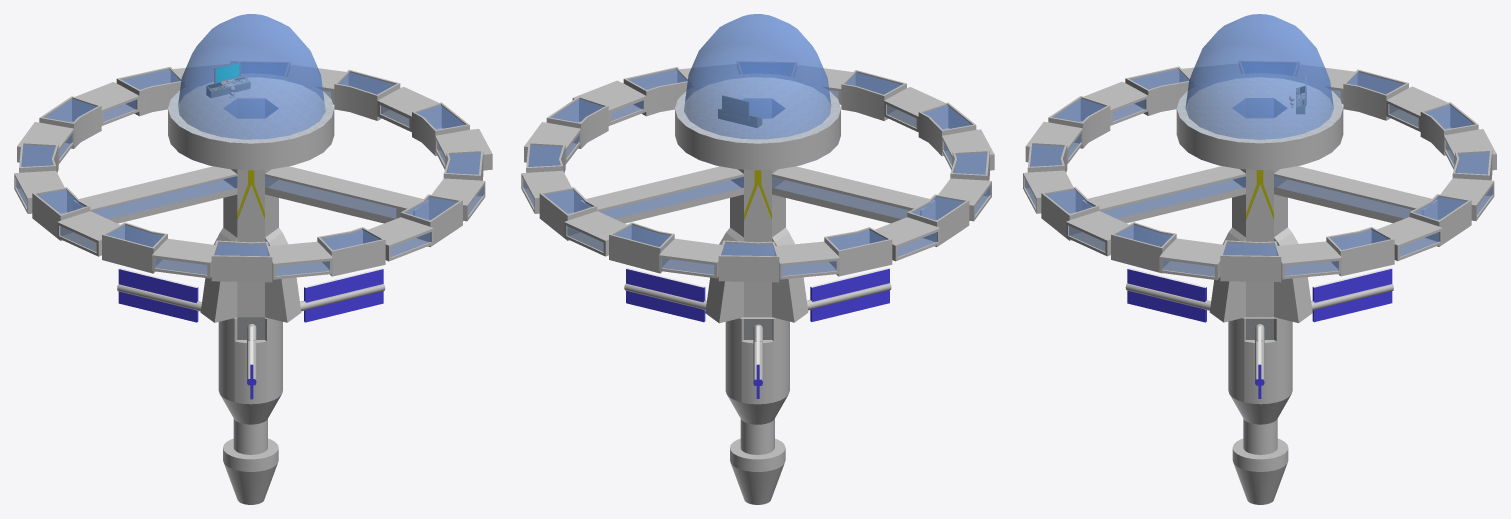
Rendered from Berillium_Satellite.fbx.
The picture shows the model from 3 angles, left to right: view 1: azimuth 30°, elevation 25°; view 2: azimuth 150°, elevation 25°; view 3: azimuth 270°, elevation 25°; orthographic projection.
Parts seen in each view (by area): view 1: Berillium_Satellite-COM-MM_satellite_Cannon-63958-Material5, Berillium_Satellite-COM-SimpleDome02-58828-Translucent_Glass, Berillium_Satellite-COM-MM_satellite_Cannon-63958-Translucen, Berillium_Satellite-COM-MM_satellite_Cannon-63958-Metal_Alum, Berillium_Satellite-COM-MM_satellite_Cannon-63958-Material6, Berillium_Satellite-COM-MM_satellite_Cannon-63958-Metal_Stee, Berillium_Satellite-COM-ske51-58937-Metal_Panel; view 2: Berillium_Satellite-COM-MM_satellite_Cannon-63958-Material5, Berillium_Satellite-COM-SimpleDome02-58828-Translucent_Glass, Berillium_Satellite-COM-MM_satellite_Cannon-63958-Translucen, Berillium_Satellite-COM-MM_satellite_Cannon-63958-Metal_Alum, Berillium_Satellite-COM-MM_satellite_Cannon-63958-Material6, Berillium_Satellite-COM-MM_satellite_Cannon-63958-Metal_Stee, Berillium_Satellite-COM-ske51-58937-Metal_Panel; view 3: Berillium_Satellite-COM-MM_satellite_Cannon-63958-Material5, Berillium_Satellite-COM-SimpleDome02-58828-Translucent_Glass, Berillium_Satellite-COM-MM_satellite_Cannon-63958-Translucen, Berillium_Satellite-COM-MM_satellite_Cannon-63958-Metal_Alum, Berillium_Satellite-COM-MM_satellite_Cannon-63958-Material6, Berillium_Satellite-COM-MM_satellite_Cannon-63958-Metal_Stee.
Part boxes in pixels (x1,y1,x2,y2): Berillium_Satellite-COM-MM_satellite_Cannon-63958-Material5: (14,61,492,504); Berillium_Satellite-COM-SimpleDome02-58828-Translucent_Glass: (178,14,325,139); Berillium_Satellite-COM-MM_satellite_Cannon-63958-Translucen: (16,69,483,275); Berillium_Satellite-COM-MM_satellite_Cannon-63958-Metal_Alum: (168,73,334,143); Berillium_Satellite-COM-MM_satellite_Cannon-63958-Material6: (118,269,383,399); Berillium_Satellite-COM-MM_satellite_Cannon-63958-Metal_Stee: (117,284,385,380); Berillium_Satellite-COM-ske51-58937-Metal_Panel: (206,61,250,98); Berillium_Satellite-COM-MM_satellite_Cannon-63958-Material5: (521,61,994,504); Berillium_Satellite-COM-SimpleDome02-58828-Translucent_Glass: (684,14,831,139); Berillium_Satellite-COM-MM_satellite_Cannon-63958-Translucen: (523,69,989,275); Berillium_Satellite-COM-MM_satellite_Cannon-63958-Metal_Alum: (675,74,840,143); Berillium_Satellite-COM-MM_satellite_Cannon-63958-Material6: (626,268,889,398); Berillium_Satellite-COM-MM_satellite_Cannon-63958-Metal_Stee: (624,284,891,381); Berillium_Satellite-COM-ske51-58937-Metal_Panel: (718,95,762,127); Berillium_Satellite-COM-MM_satellite_Cannon-63958-Material5: (1023,61,1496,504); Berillium_Satellite-COM-SimpleDome02-58828-Translucent_Glass: (1185,14,1333,139); Berillium_Satellite-COM-MM_satellite_Cannon-63958-Translucen: (1025,69,1492,276); Berillium_Satellite-COM-MM_satellite_Cannon-63958-Metal_Alum: (1176,73,1343,143); Berillium_Satellite-COM-MM_satellite_Cannon-63958-Material6: (1127,269,1392,398); Berillium_Satellite-COM-MM_satellite_Cannon-63958-Metal_Stee: (1125,284,1393,381).
Bounding box in the file's own units: 41.05 × 45.71 × 40.87.
